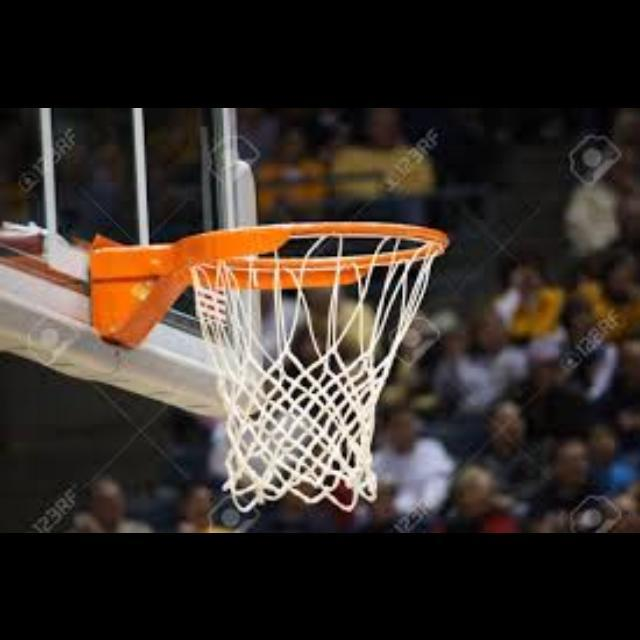rim: (189, 222, 447, 506)
